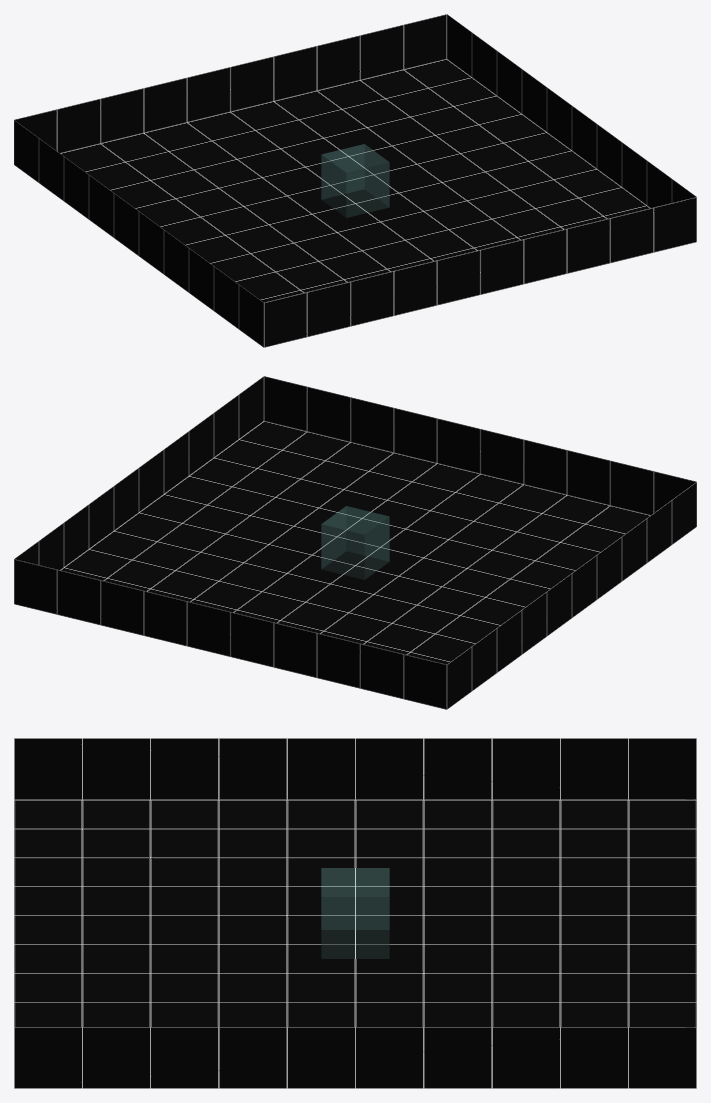
Rendered from World.glb.
3 renders of one model, top to bottom at view 1: azimuth 30°, elevation 25°; view 2: azimuth 150°, elevation 25°; view 3: azimuth 270°, elevation 25°, orthographic. The views are drawn at different scales.
Visible parts, largest first — view 1: Plane, Plane.003, Plane.004, Plane.001, Plane.002, Cube, Cube_col; view 2: Plane, Plane.004, Plane.003, Plane.001, Plane.002, Cube, Cube_col; view 3: Plane, Plane.001, Plane.002, Cube, Cube_col.
Part boxes in pixels (x1,y1,x2,y2): Plane: (61, 59, 649, 302); Plane.003: (264, 197, 696, 347); Plane.004: (14, 14, 446, 153); Plane.001: (14, 120, 263, 347); Plane.002: (447, 14, 696, 208); Cube: (322, 144, 388, 206); Cube_col: (322, 144, 388, 205); Plane: (61, 421, 649, 664); Plane.004: (14, 559, 446, 709); Plane.003: (264, 376, 696, 515); Plane.001: (447, 482, 696, 709); Plane.002: (14, 376, 263, 570); Cube: (322, 506, 388, 568); Cube_col: (322, 506, 388, 567); Plane: (14, 800, 696, 1026); Plane.001: (14, 738, 696, 799); Plane.002: (14, 1027, 696, 1088); Cube: (322, 868, 388, 929); Cube_col: (322, 868, 388, 929).
Bounding box in the file's own units: 20 × 2 × 20.
2 materials, 1 textured.
